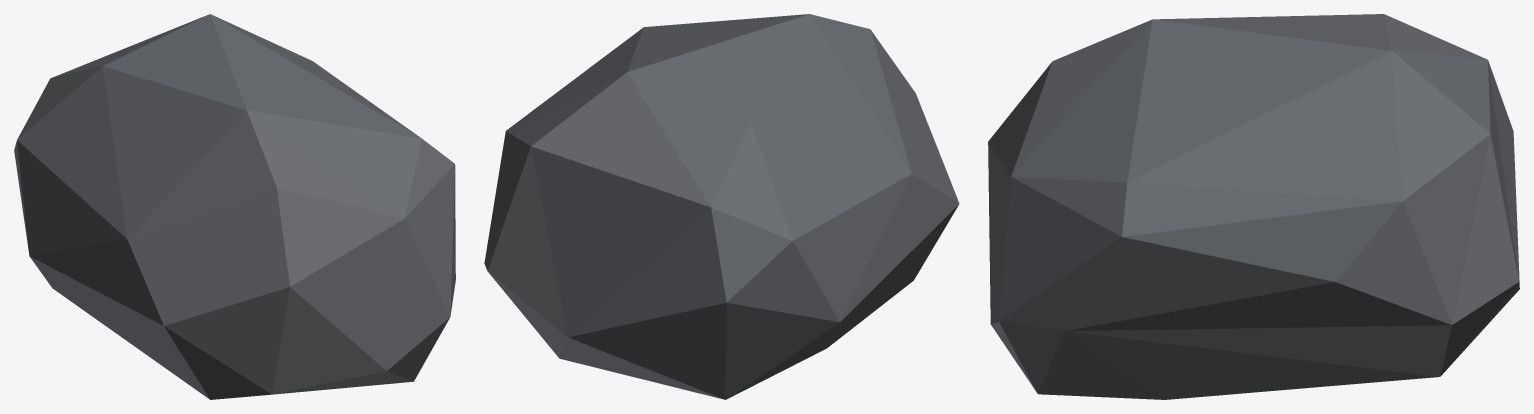
File: Rock_02.fbx
The picture shows the model from 3 angles, left to right: view 1: azimuth 30°, elevation 25°; view 2: azimuth 150°, elevation 25°; view 3: azimuth 270°, elevation 25°; orthographic projection. The views are drawn at different scales.
Visible parts, largest first — view 1: Rock_02; view 2: Rock_02; view 3: Rock_02.
Boxes of the visible parts, x1,y1,x2,y2 form: Rock_02: [14, 14, 455, 399]; Rock_02: [484, 14, 959, 399]; Rock_02: [988, 14, 1519, 399].
Bounding box in the file's own units: 1 × 0.8423 × 1.24.
